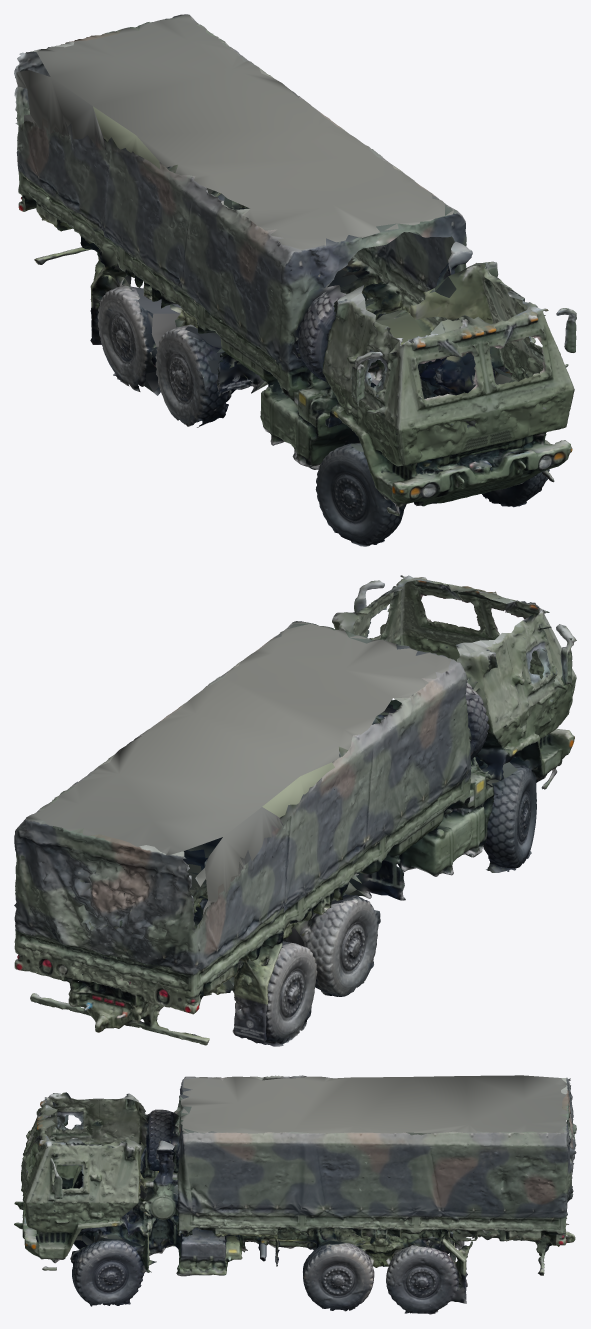
File: 6x6_cargo_truck.glb
3 renders of one model, top to bottom at view 1: azimuth 30°, elevation 25°; view 2: azimuth 150°, elevation 25°; view 3: azimuth 270°, elevation 25°, orthographic. The views are drawn at different scales.
Visible parts, largest first — view 1: FMTV_6x6; view 2: FMTV_6x6; view 3: FMTV_6x6.
Boxes of the visible parts, left/top/right/bottom form: FMTV_6x6: left=14, top=14, right=576, bottom=546; FMTV_6x6: left=14, top=575, right=576, bottom=1046; FMTV_6x6: left=14, top=1075, right=576, bottom=1314.
Bounding box in the file's own units: 11.48 × 12.78 × 35.93.
Materials: 1 (1 with a texture image).
